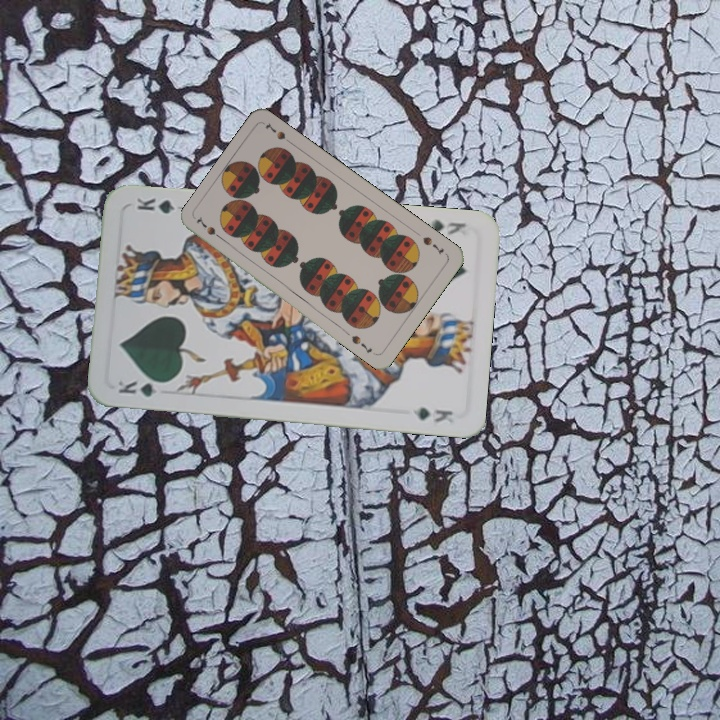GK: (114, 377, 171, 400), (423, 215, 469, 237)
S7: (419, 232, 446, 257), (202, 222, 228, 244)
